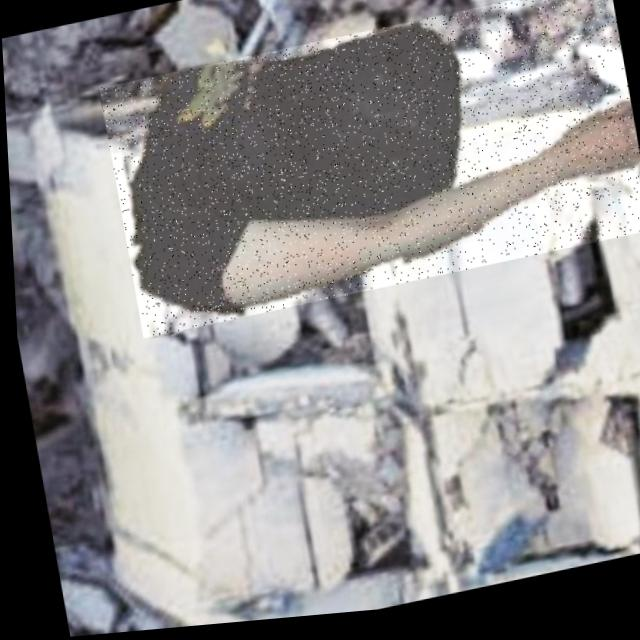Person in Rubble: (95, 0, 640, 341)
